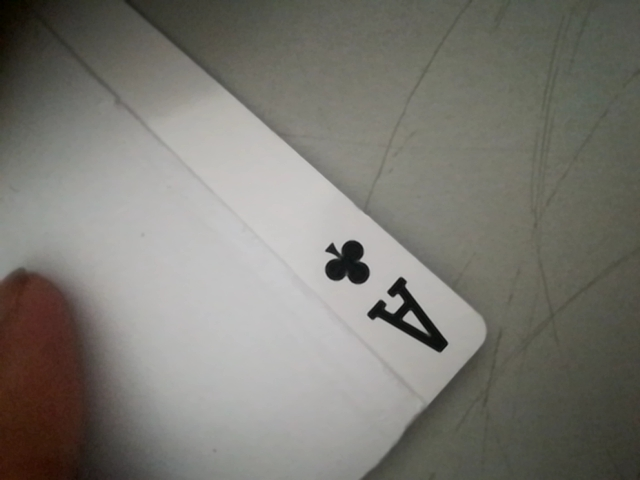mh a: (298, 232, 466, 362)
